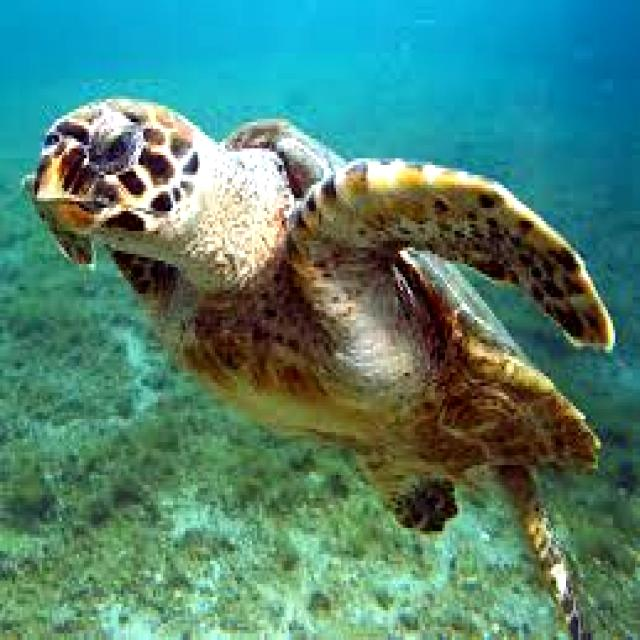Sea turtle: (23, 95, 615, 640)
